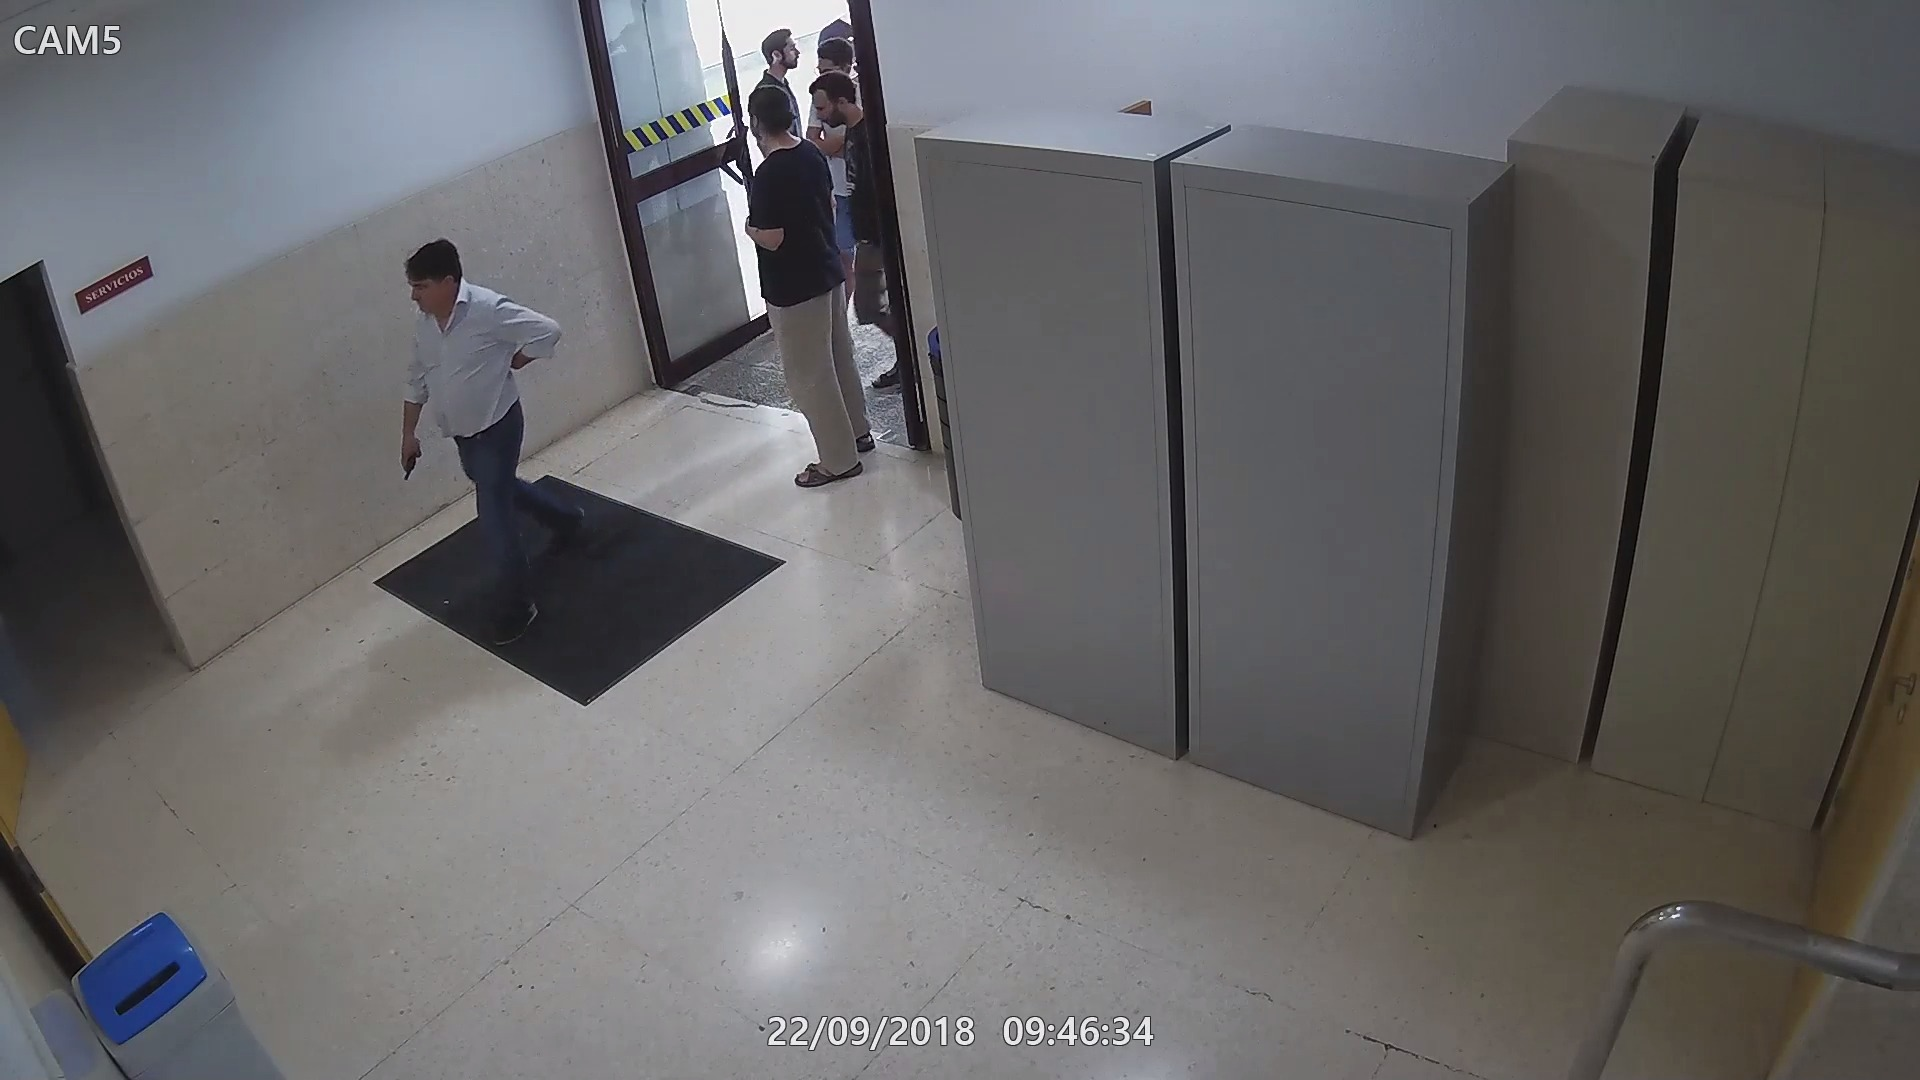pistol: (398, 434, 425, 479)
